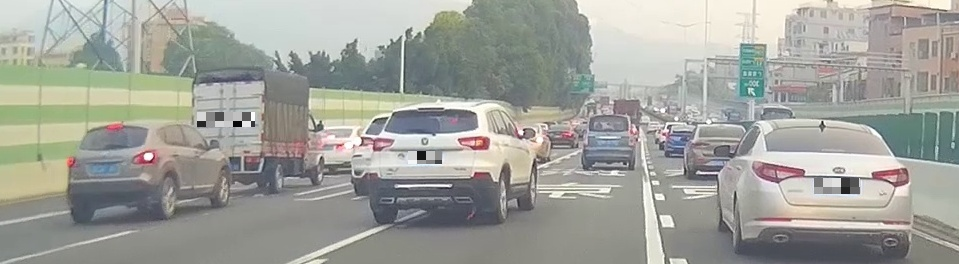L_light: (751, 160, 806, 183), (372, 137, 395, 152), (66, 155, 77, 167), (582, 129, 588, 146)
R_light: (871, 168, 910, 187), (457, 135, 491, 151), (131, 148, 157, 165), (629, 127, 635, 148)
T_light: (416, 106, 446, 113), (819, 148, 848, 154), (105, 124, 124, 130), (604, 115, 616, 117)
day-no: (744, 119, 912, 259), (581, 114, 636, 171)
day-right: (369, 103, 499, 225), (65, 121, 159, 223)
plate_1: (197, 112, 255, 127)
plate_2: (408, 151, 442, 164)
plate_3: (814, 178, 860, 194)
